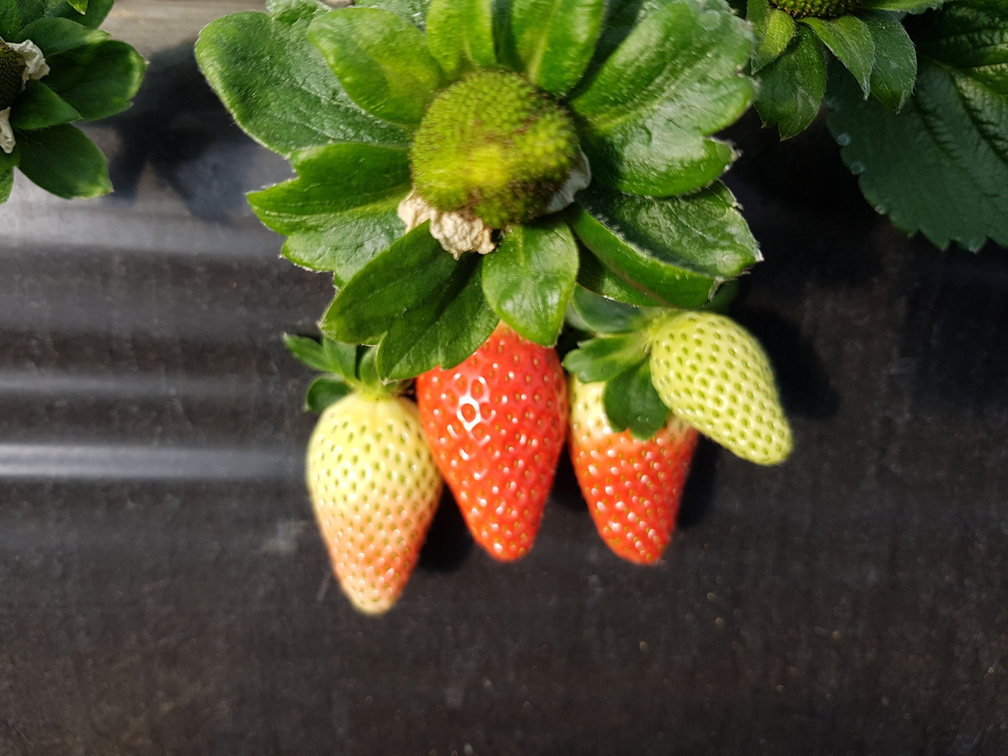peduncle: (565, 289, 591, 332)
strawberry: (416, 323, 566, 560), (307, 394, 442, 613), (569, 377, 697, 563), (651, 311, 790, 463)
